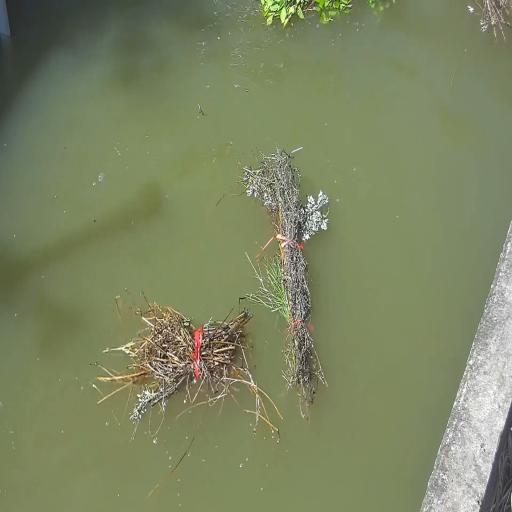twig: (235, 140, 334, 410), (111, 290, 284, 443), (238, 0, 402, 37), (445, 0, 512, 38)
